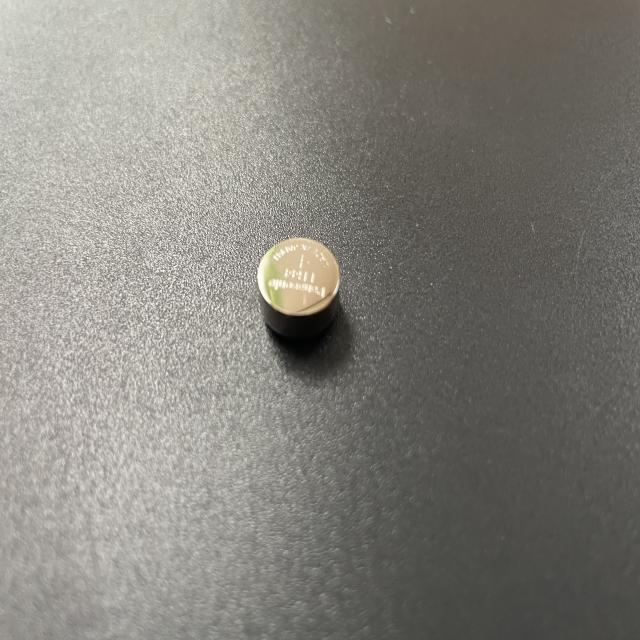COIN: (255, 234, 342, 345)
